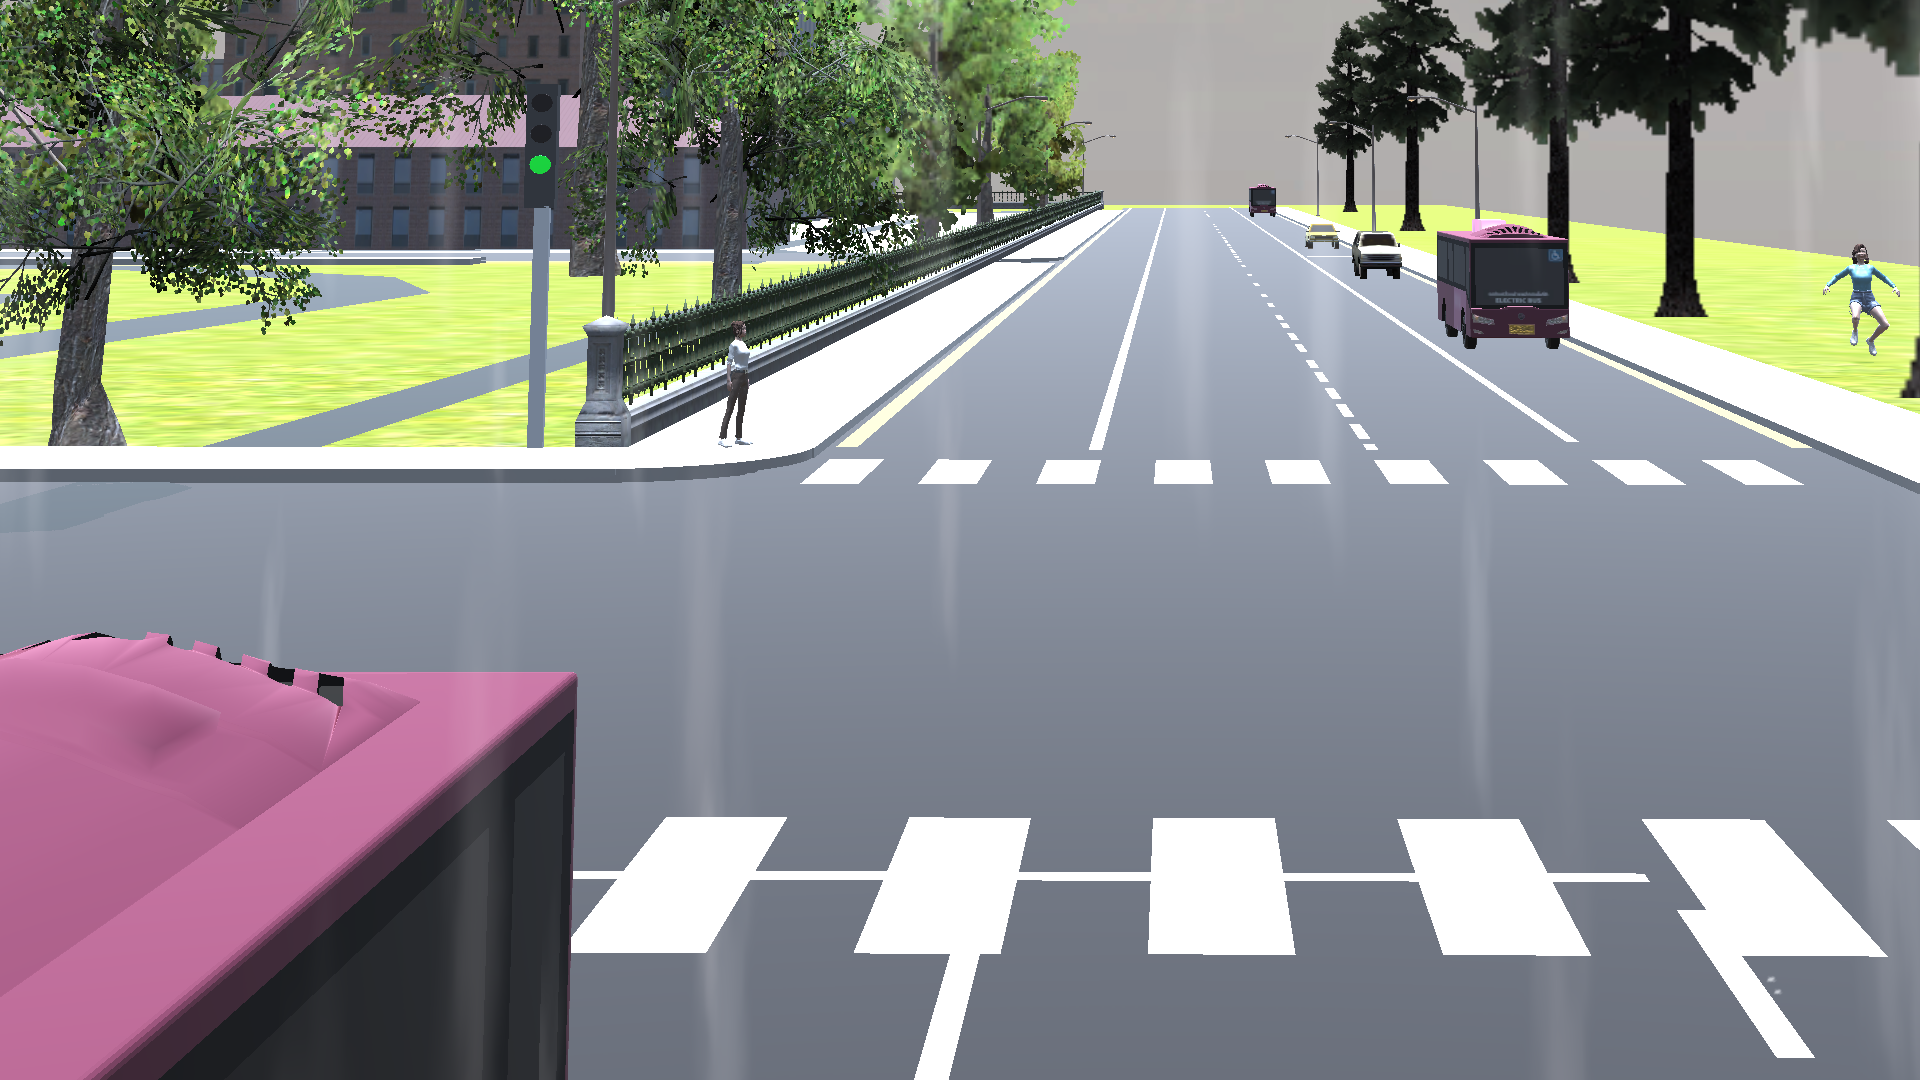pedestrian: (1820, 241, 1903, 369), (712, 318, 749, 448)
